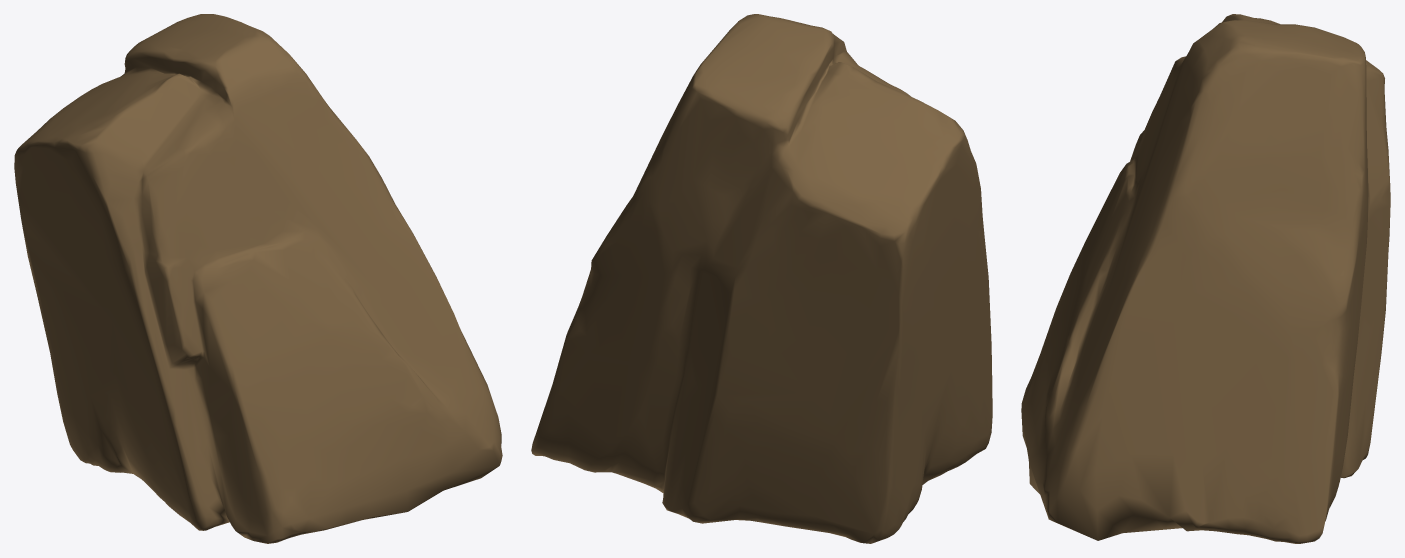
3 views of the same model, side by side, from view 1: azimuth 30°, elevation 25°; view 2: azimuth 150°, elevation 25°; view 3: azimuth 270°, elevation 25° (orthographic). The views are drawn at different scales.
Visible parts, largest first — view 1: SM_Cliff_Bottom_Rock_02_LOD0; view 2: SM_Cliff_Bottom_Rock_02_LOD0; view 3: SM_Cliff_Bottom_Rock_02_LOD0.
Part boxes in pixels (bbox=[...]): SM_Cliff_Bottom_Rock_02_LOD0: bbox=[14, 14, 502, 543]; SM_Cliff_Bottom_Rock_02_LOD0: bbox=[531, 14, 992, 543]; SM_Cliff_Bottom_Rock_02_LOD0: bbox=[1021, 14, 1390, 543].
Bounding box in the file's own units: 2.39 × 2.61 × 2.07.
